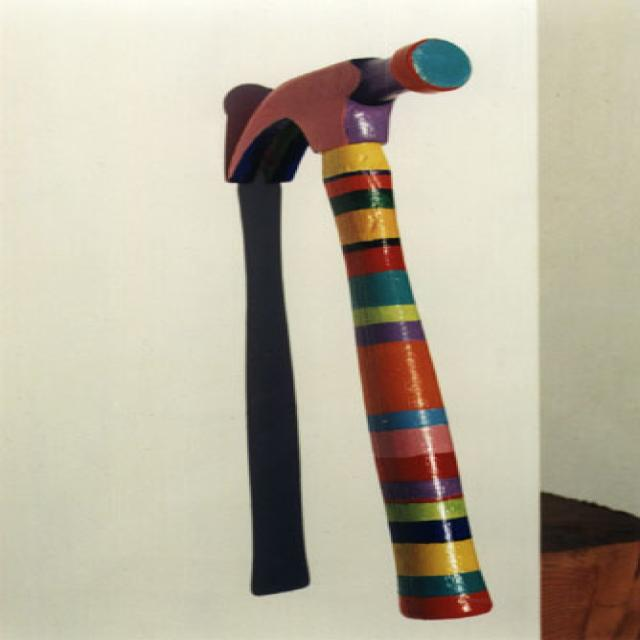hammer: (226, 39, 492, 619)
